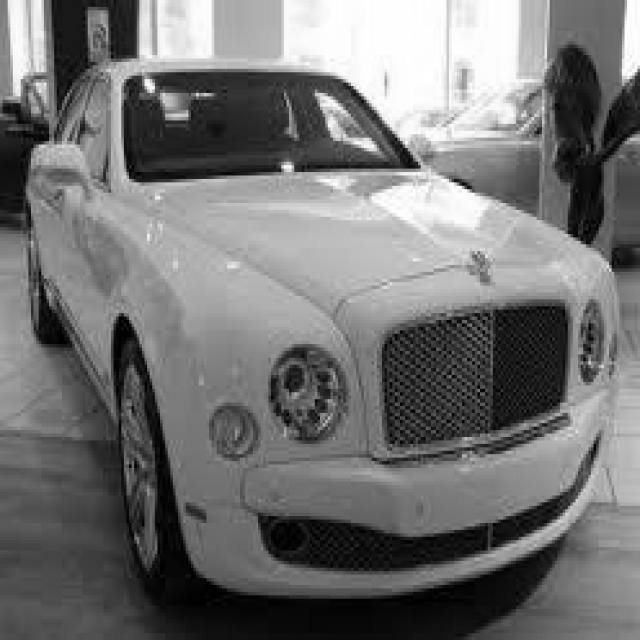car: (21, 52, 619, 606)
